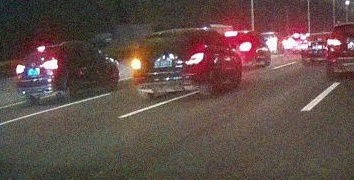L_light: (16, 63, 26, 75), (132, 57, 141, 70)
R_light: (184, 51, 204, 66), (40, 59, 58, 71)
T_light: (37, 46, 46, 51), (164, 32, 175, 35)
night-brake: (15, 44, 66, 105)
night-left: (130, 29, 207, 98)
